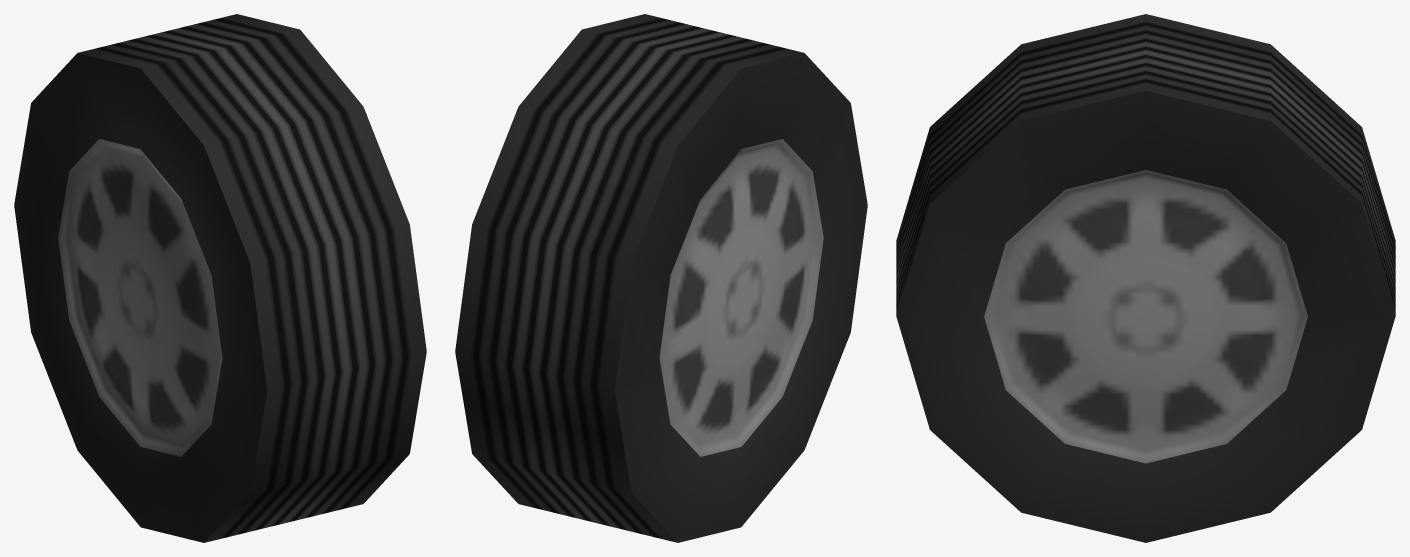
File: SportWheel.fbx
3 views of the same model, side by side, from view 1: azimuth 30°, elevation 25°; view 2: azimuth 150°, elevation 25°; view 3: azimuth 270°, elevation 25° (orthographic).
Visible parts, largest first — view 1: WheelBXC; view 2: WheelBXC; view 3: WheelBXC.
Boxes of the visible parts, x1=… form: WheelBXC: x1=14, y1=14, x2=426, y2=542; WheelBXC: x1=455, y1=14, x2=867, y2=542; WheelBXC: x1=896, y1=14, x2=1395, y2=542.
Bounding box in the file's own units: 0.2425 × 0.6434 × 0.6434.
